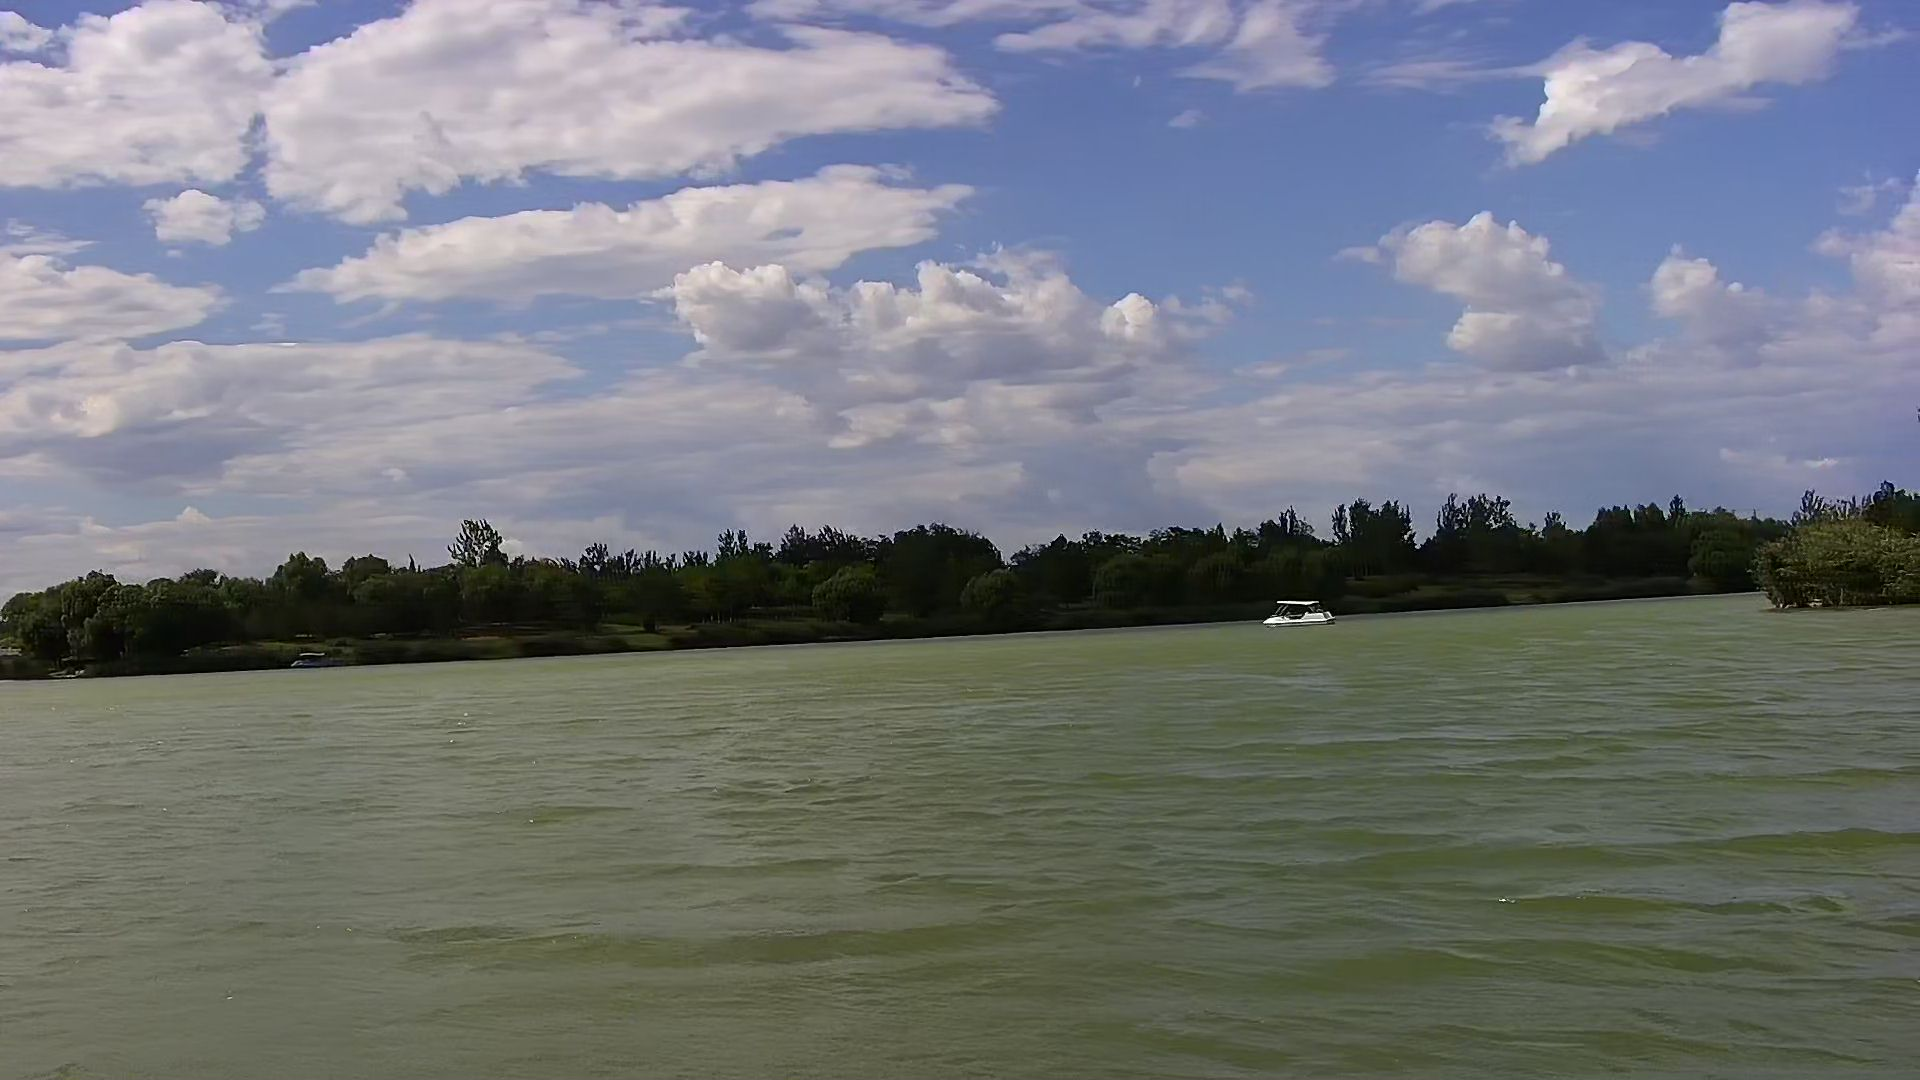boat: (1266, 593, 1342, 629), (286, 647, 344, 673)
